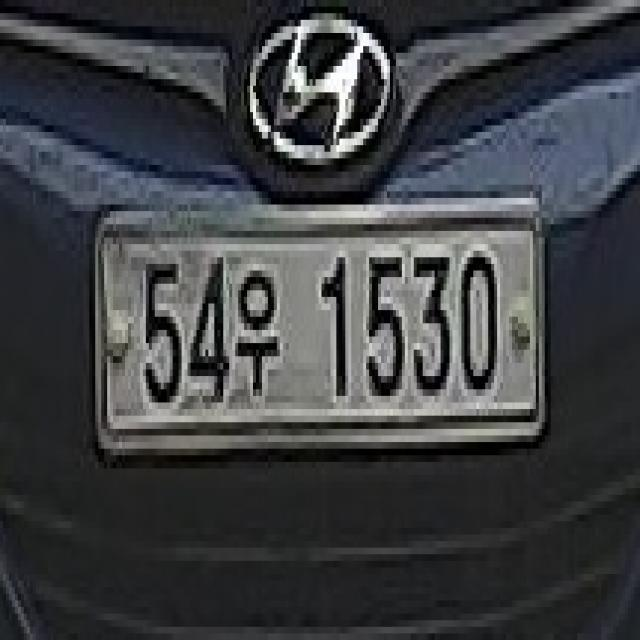0: (456, 237, 502, 391)
1: (313, 242, 355, 404)
3: (411, 237, 452, 396)
4: (187, 253, 233, 405)
5: (360, 238, 408, 397), (141, 254, 185, 406)
license_plate: (89, 191, 551, 441)
u: (235, 249, 282, 412)
